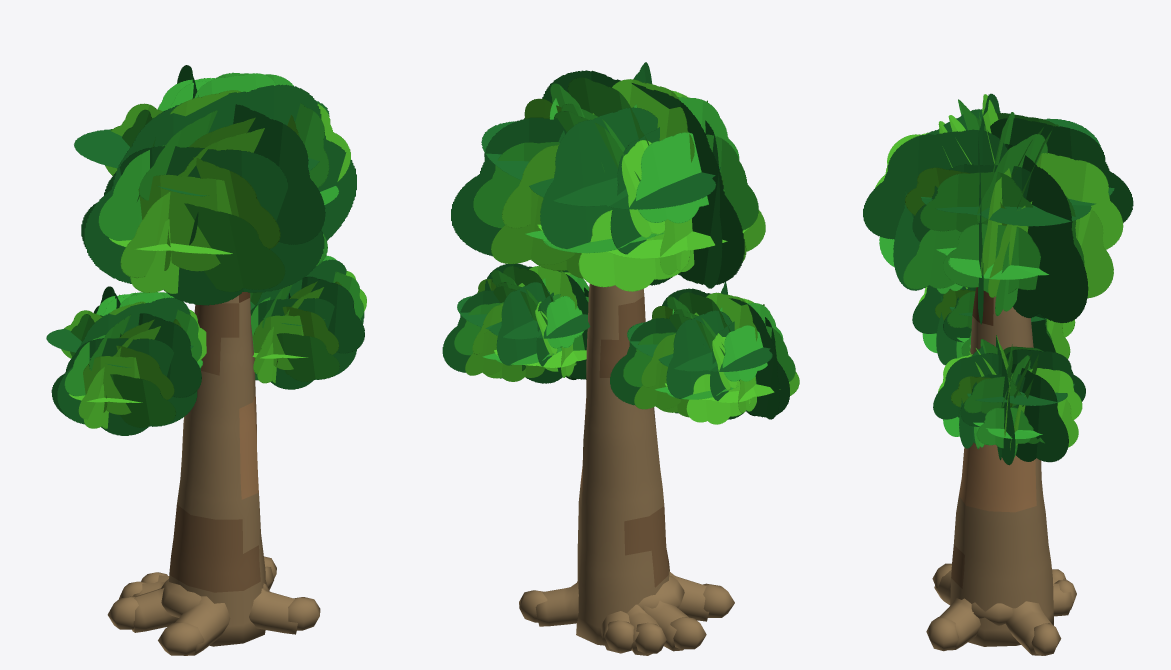
Rendered from TREE_EUCALYPTUS_001_v018_LOD_GAMEPLAY.glb.
The picture shows the model from 3 angles, left to right: view 1: azimuth 30°, elevation 25°; view 2: azimuth 150°, elevation 25°; view 3: azimuth 270°, elevation 25°; orthographic projection. The views are drawn at different scales.
Visible parts, largest first — view 1: TREE_EUCALYPTUS_001_GAMEPLAY_AUTHORED_FOLIAGE_ISLANDS, TREE_EUCALYPTUS_001_GAMEPLAY_MAIN_TRUNK, TREE_EUCALYPTUS_001_GAMEPLAY_ROOT_FRONT_LEFT, TREE_EUCALYPTUS_001_GAMEPLAY_ROOT_FRONT_RIGHT, TREE_EUCALYPTUS_001_GAMEPLAY_ROOT_LONG_LEFT, TREE_EUCALYPTUS_001_GAMEPLAY_ROOT_TOE_FRONT_LEFT, TREE_EUCALYPTUS_001_GAMEPLAY_BROAD_PLANTED_ROOT_MOUND, TREE_EUCALYPTUS_001_GAMEPLAY_ROOT_TOE_FRONT_RIGHT, TREE_EUCALYPTUS_001_GAMEPLAY_ROOT_TOE_LONG_LEFT; view 2: TREE_EUCALYPTUS_001_GAMEPLAY_AUTHORED_FOLIAGE_ISLANDS, TREE_EUCALYPTUS_001_GAMEPLAY_MAIN_TRUNK, TREE_EUCALYPTUS_001_GAMEPLAY_ROOT_RIGHT_SIDE, TREE_EUCALYPTUS_001_GAMEPLAY_ROOT_FRONT_LEFT, TREE_EUCALYPTUS_001_GAMEPLAY_ROOT_LONG_LEFT, TREE_EUCALYPTUS_001_GAMEPLAY_ROOT_TOE_LONG_LEFT, TREE_EUCALYPTUS_001_GAMEPLAY_ROOT_TOE_FRONT_LEFT, TREE_EUCALYPTUS_001_GAMEPLAY_BROAD_PLANTED_ROOT_MOUND, TREE_EUCALYPTUS_001_GAMEPLAY_ROOT_TOE_LEFT_REAR, TREE_EUCALYPTUS_001_GAMEPLAY_ROOT_TOE_REAR_SHORT, TREE_EUCALYPTUS_001_GAMEPLAY_ROOT_TOE_RIGHT_SIDE; view 3: TREE_EUCALYPTUS_001_GAMEPLAY_AUTHORED_FOLIAGE_ISLANDS, TREE_EUCALYPTUS_001_GAMEPLAY_MAIN_TRUNK, TREE_EUCALYPTUS_001_GAMEPLAY_ROOT_RIGHT_SIDE, TREE_EUCALYPTUS_001_GAMEPLAY_ROOT_FRONT_RIGHT, TREE_EUCALYPTUS_001_GAMEPLAY_ROOT_TOE_FRONT_RIGHT, TREE_EUCALYPTUS_001_GAMEPLAY_ROOT_TOE_RIGHT_SIDE, TREE_EUCALYPTUS_001_GAMEPLAY_BROAD_PLANTED_ROOT_MOUND, TREE_EUCALYPTUS_001_GAMEPLAY_ROOT_REAR_SHORT.
Part boxes in pixels (bbox=[...]): TREE_EUCALYPTUS_001_GAMEPLAY_AUTHORED_FOLIAGE_ISLANDS: bbox=[46, 65, 366, 435]; TREE_EUCALYPTUS_001_GAMEPLAY_MAIN_TRUNK: bbox=[169, 292, 265, 646]; TREE_EUCALYPTUS_001_GAMEPLAY_ROOT_FRONT_LEFT: bbox=[175, 596, 230, 655]; TREE_EUCALYPTUS_001_GAMEPLAY_ROOT_FRONT_RIGHT: bbox=[249, 588, 297, 634]; TREE_EUCALYPTUS_001_GAMEPLAY_ROOT_LONG_LEFT: bbox=[132, 588, 178, 632]; TREE_EUCALYPTUS_001_GAMEPLAY_ROOT_TOE_FRONT_LEFT: bbox=[158, 622, 204, 655]; TREE_EUCALYPTUS_001_GAMEPLAY_BROAD_PLANTED_ROOT_MOUND: bbox=[161, 579, 268, 617]; TREE_EUCALYPTUS_001_GAMEPLAY_ROOT_TOE_FRONT_RIGHT: bbox=[288, 597, 320, 630]; TREE_EUCALYPTUS_001_GAMEPLAY_ROOT_TOE_LONG_LEFT: bbox=[107, 596, 138, 629]; TREE_EUCALYPTUS_001_GAMEPLAY_AUTHORED_FOLIAGE_ISLANDS: bbox=[442, 62, 799, 424]; TREE_EUCALYPTUS_001_GAMEPLAY_MAIN_TRUNK: bbox=[576, 283, 669, 645]; TREE_EUCALYPTUS_001_GAMEPLAY_ROOT_RIGHT_SIDE: bbox=[535, 582, 578, 626]; TREE_EUCALYPTUS_001_GAMEPLAY_ROOT_FRONT_LEFT: bbox=[669, 571, 709, 621]; TREE_EUCALYPTUS_001_GAMEPLAY_ROOT_LONG_LEFT: bbox=[643, 600, 688, 651]; TREE_EUCALYPTUS_001_GAMEPLAY_ROOT_TOE_LONG_LEFT: bbox=[670, 617, 706, 649]; TREE_EUCALYPTUS_001_GAMEPLAY_ROOT_TOE_FRONT_LEFT: bbox=[703, 583, 734, 617]; TREE_EUCALYPTUS_001_GAMEPLAY_BROAD_PLANTED_ROOT_MOUND: bbox=[577, 575, 684, 610]; TREE_EUCALYPTUS_001_GAMEPLAY_ROOT_TOE_LEFT_REAR: bbox=[635, 622, 666, 653]; TREE_EUCALYPTUS_001_GAMEPLAY_ROOT_TOE_REAR_SHORT: bbox=[604, 620, 634, 651]; TREE_EUCALYPTUS_001_GAMEPLAY_ROOT_TOE_RIGHT_SIDE: bbox=[519, 590, 547, 622]; TREE_EUCALYPTUS_001_GAMEPLAY_AUTHORED_FOLIAGE_ISLANDS: bbox=[863, 93, 1133, 465]; TREE_EUCALYPTUS_001_GAMEPLAY_MAIN_TRUNK: bbox=[950, 287, 1053, 646]; TREE_EUCALYPTUS_001_GAMEPLAY_ROOT_RIGHT_SIDE: bbox=[1005, 601, 1061, 655]; TREE_EUCALYPTUS_001_GAMEPLAY_ROOT_FRONT_RIGHT: bbox=[939, 598, 980, 650]; TREE_EUCALYPTUS_001_GAMEPLAY_ROOT_TOE_FRONT_RIGHT: bbox=[926, 617, 958, 651]; TREE_EUCALYPTUS_001_GAMEPLAY_ROOT_TOE_RIGHT_SIDE: bbox=[1031, 623, 1060, 655]; TREE_EUCALYPTUS_001_GAMEPLAY_BROAD_PLANTED_ROOT_MOUND: bbox=[971, 602, 1013, 625]; TREE_EUCALYPTUS_001_GAMEPLAY_ROOT_REAR_SHORT: bbox=[1053, 583, 1071, 616].
Size of the model in its own units: 4.13 by 6.57 by 3.3.
Materials: 5 (1 with a texture image).
